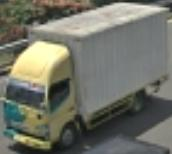truck: (2, 41, 86, 152)
